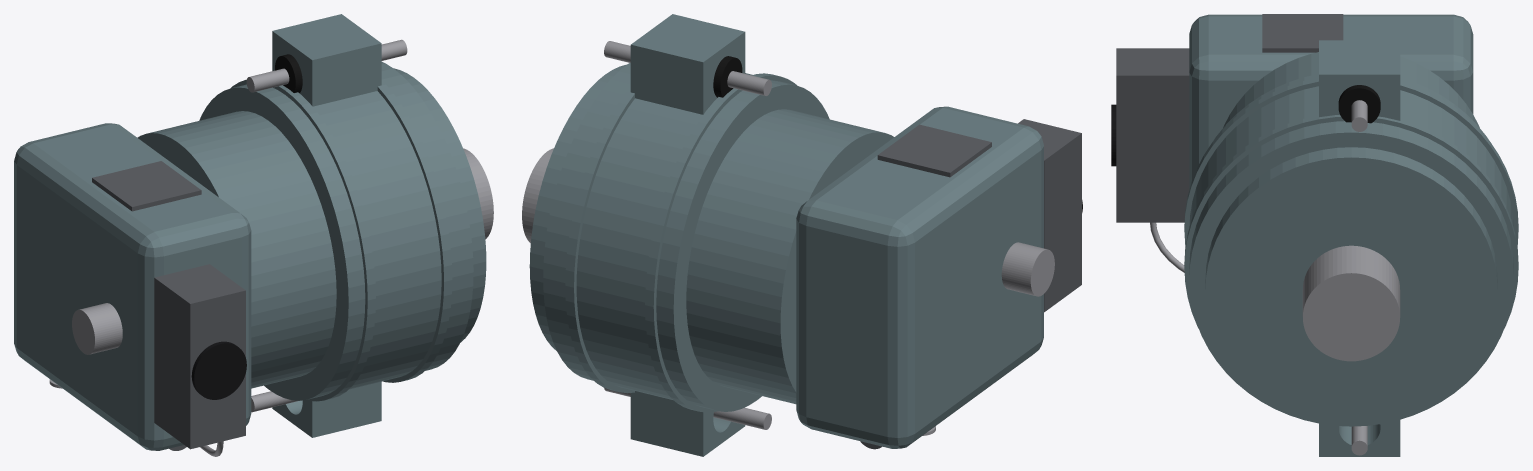
File: gearbox.glb
3 views of the same model, side by side, from view 1: azimuth 30°, elevation 25°; view 2: azimuth 150°, elevation 25°; view 3: azimuth 270°, elevation 25° (orthographic). The views are drawn at different scales.
Parts seen in each view (by area): view 1: gearbox; view 2: gearbox; view 3: gearbox.
Part boxes in pixels (x1,y1,x2,y2): gearbox: [14, 14, 493, 456]; gearbox: [522, 14, 1082, 456]; gearbox: [1111, 14, 1518, 456].
Bounding box in the file's own units: 3.1 × 2.6 × 2.51.
